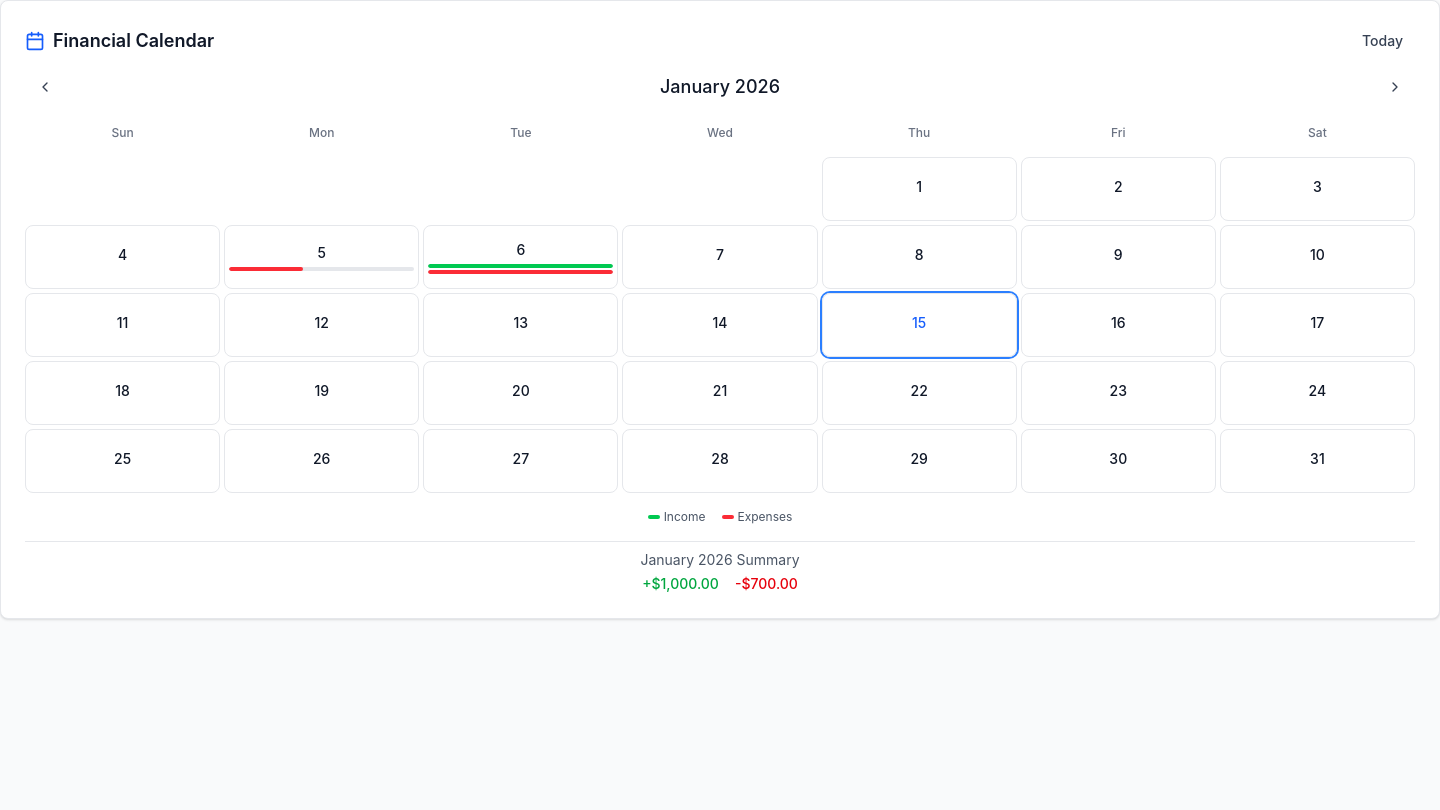
Test: FinancialCalendarWidget › can go to today
Note: Navigate to a different month first
Click the button named "Previous month" at (45, 87), box [25, 73, 65, 101]
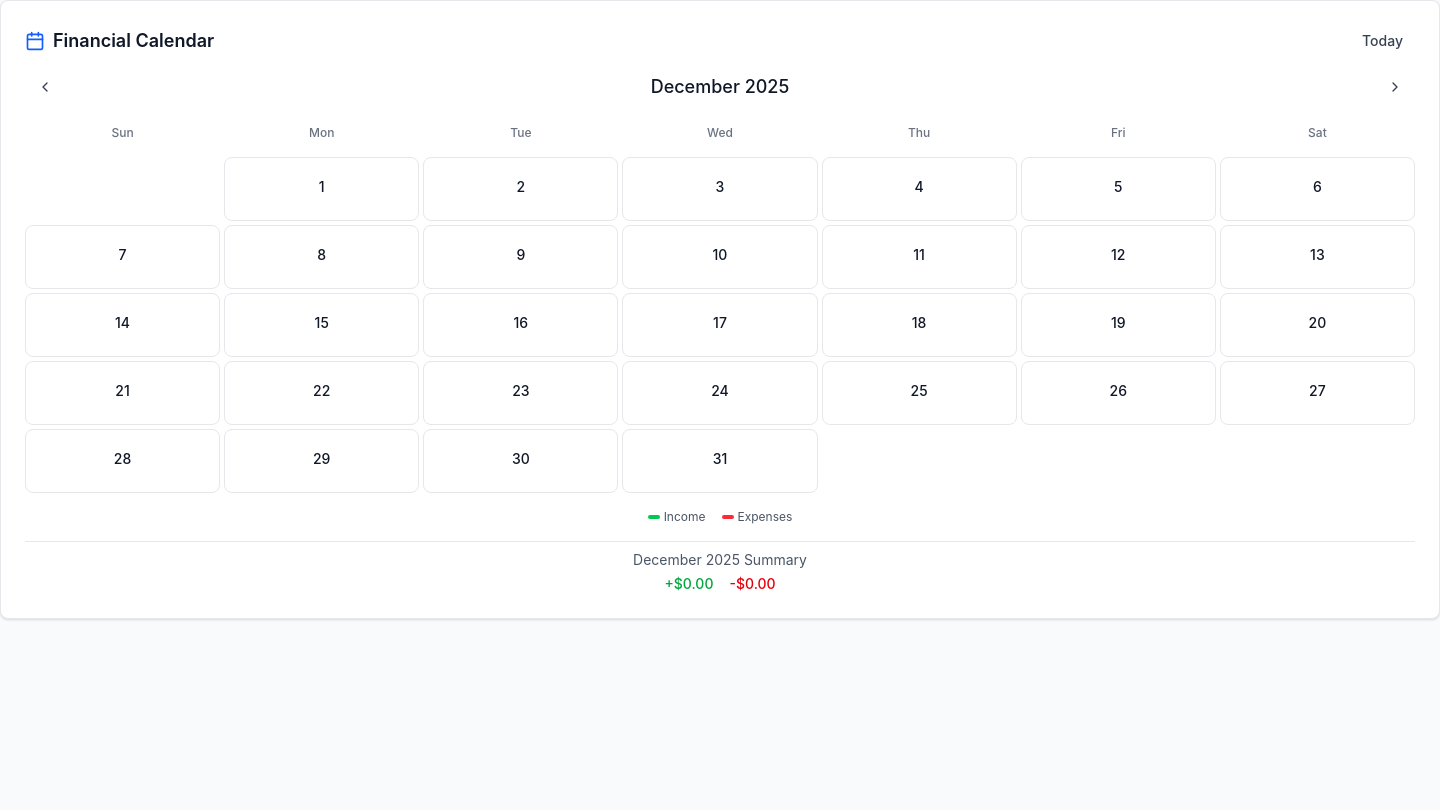
Result: the heading "December 2025" is shown at [651, 73, 789, 101]
Note: Click "Today" button
Click the button "Today" at (1382, 41), box [1350, 25, 1415, 57]
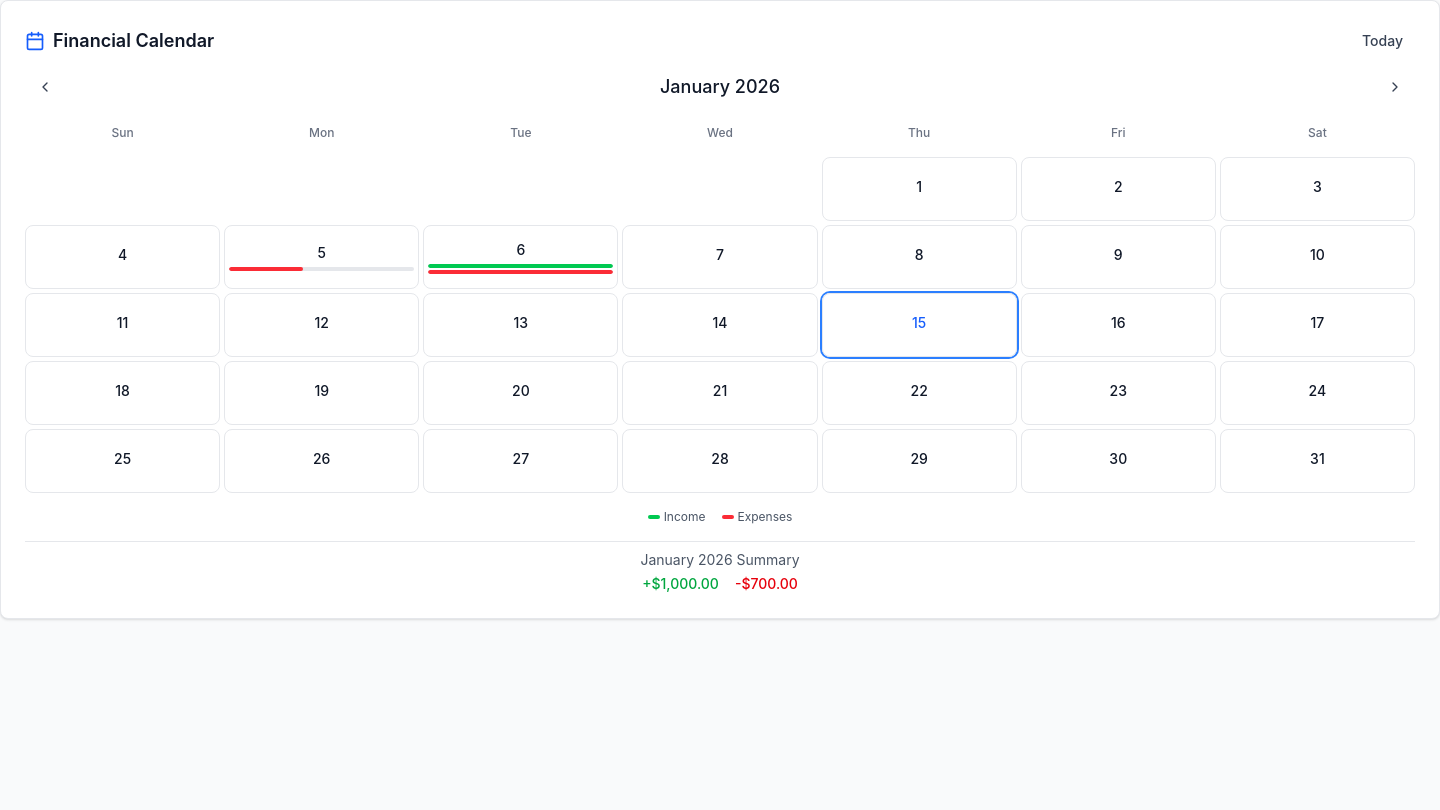
Result: the heading "January 2026" is shown at [660, 73, 780, 101]
